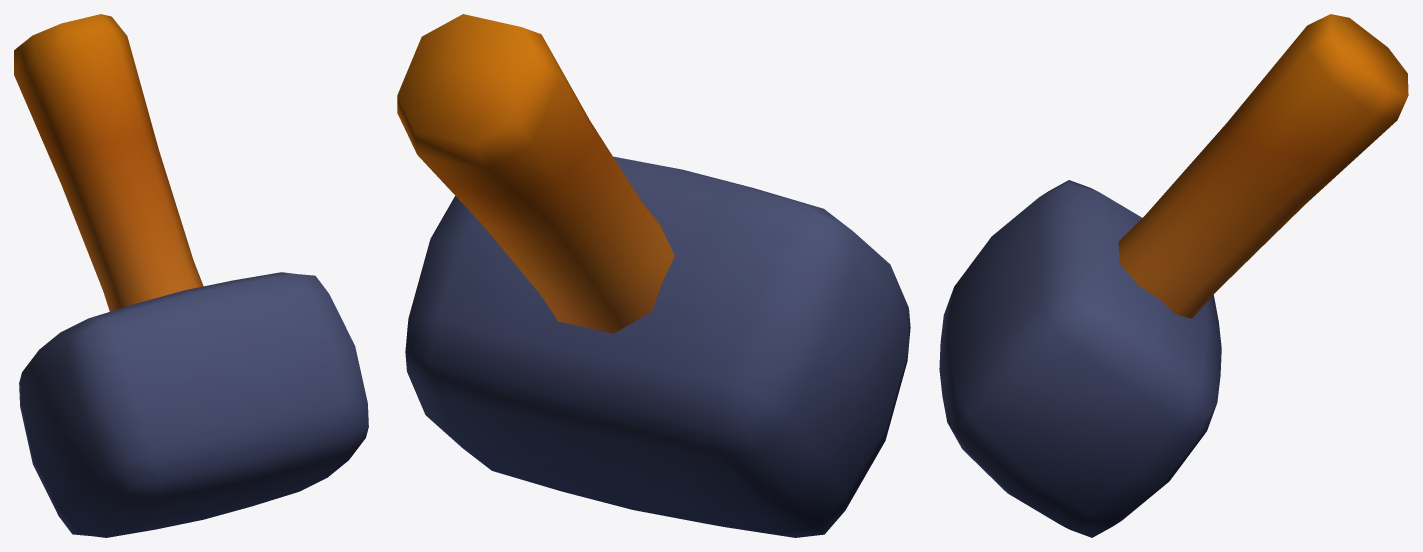
File: block_rock_1_1.fbx
3 views of the same model, side by side, from view 1: azimuth 30°, elevation 25°; view 2: azimuth 150°, elevation 25°; view 3: azimuth 270°, elevation 25° (orthographic). The views are drawn at different scales.
Parts seen in each view (by area): view 1: block_rock_1_1; view 2: block_rock_1_1; view 3: block_rock_1_1.
Part boxes in pixels (left/top/right/bottom): block_rock_1_1: left=14, top=14, right=368, bottom=537; block_rock_1_1: left=397, top=14, right=910, bottom=537; block_rock_1_1: left=939, top=14, right=1408, bottom=537.
Bounding box in the file's own units: 102 × 145 × 133.
